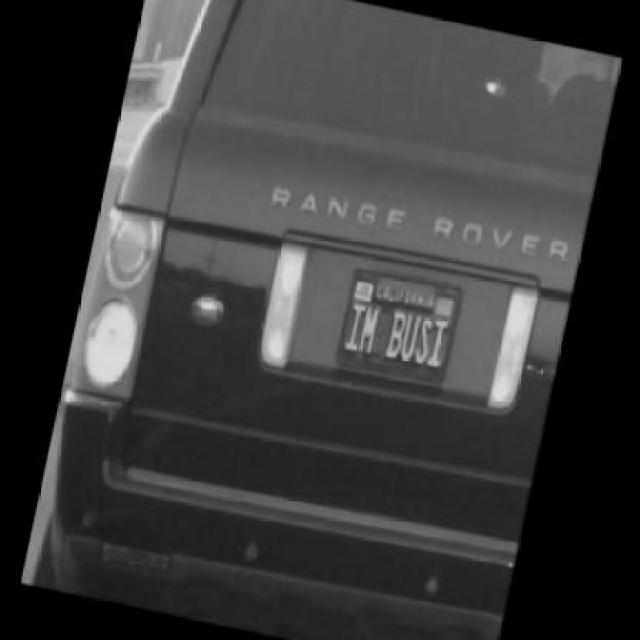licenseplate: (340, 269, 465, 386)
